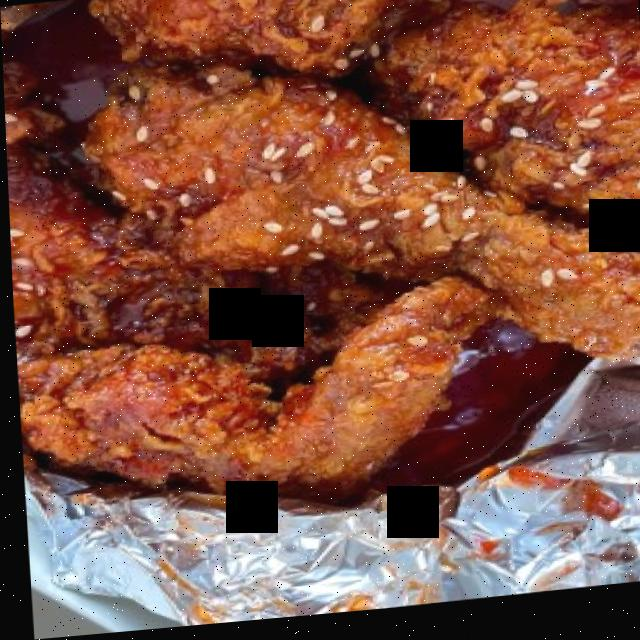Frango: (0, 0, 640, 535)
